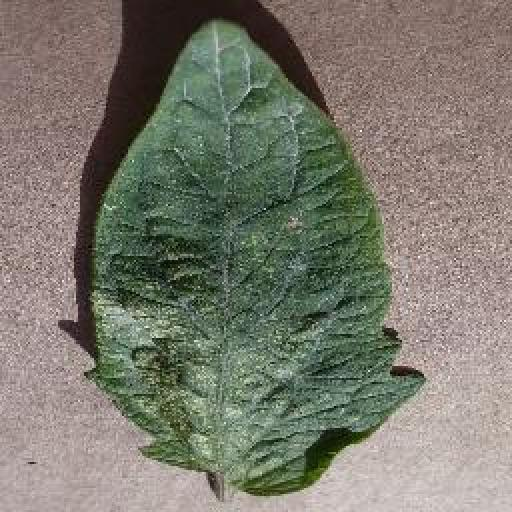disease_tomato: (88, 18, 424, 498)
